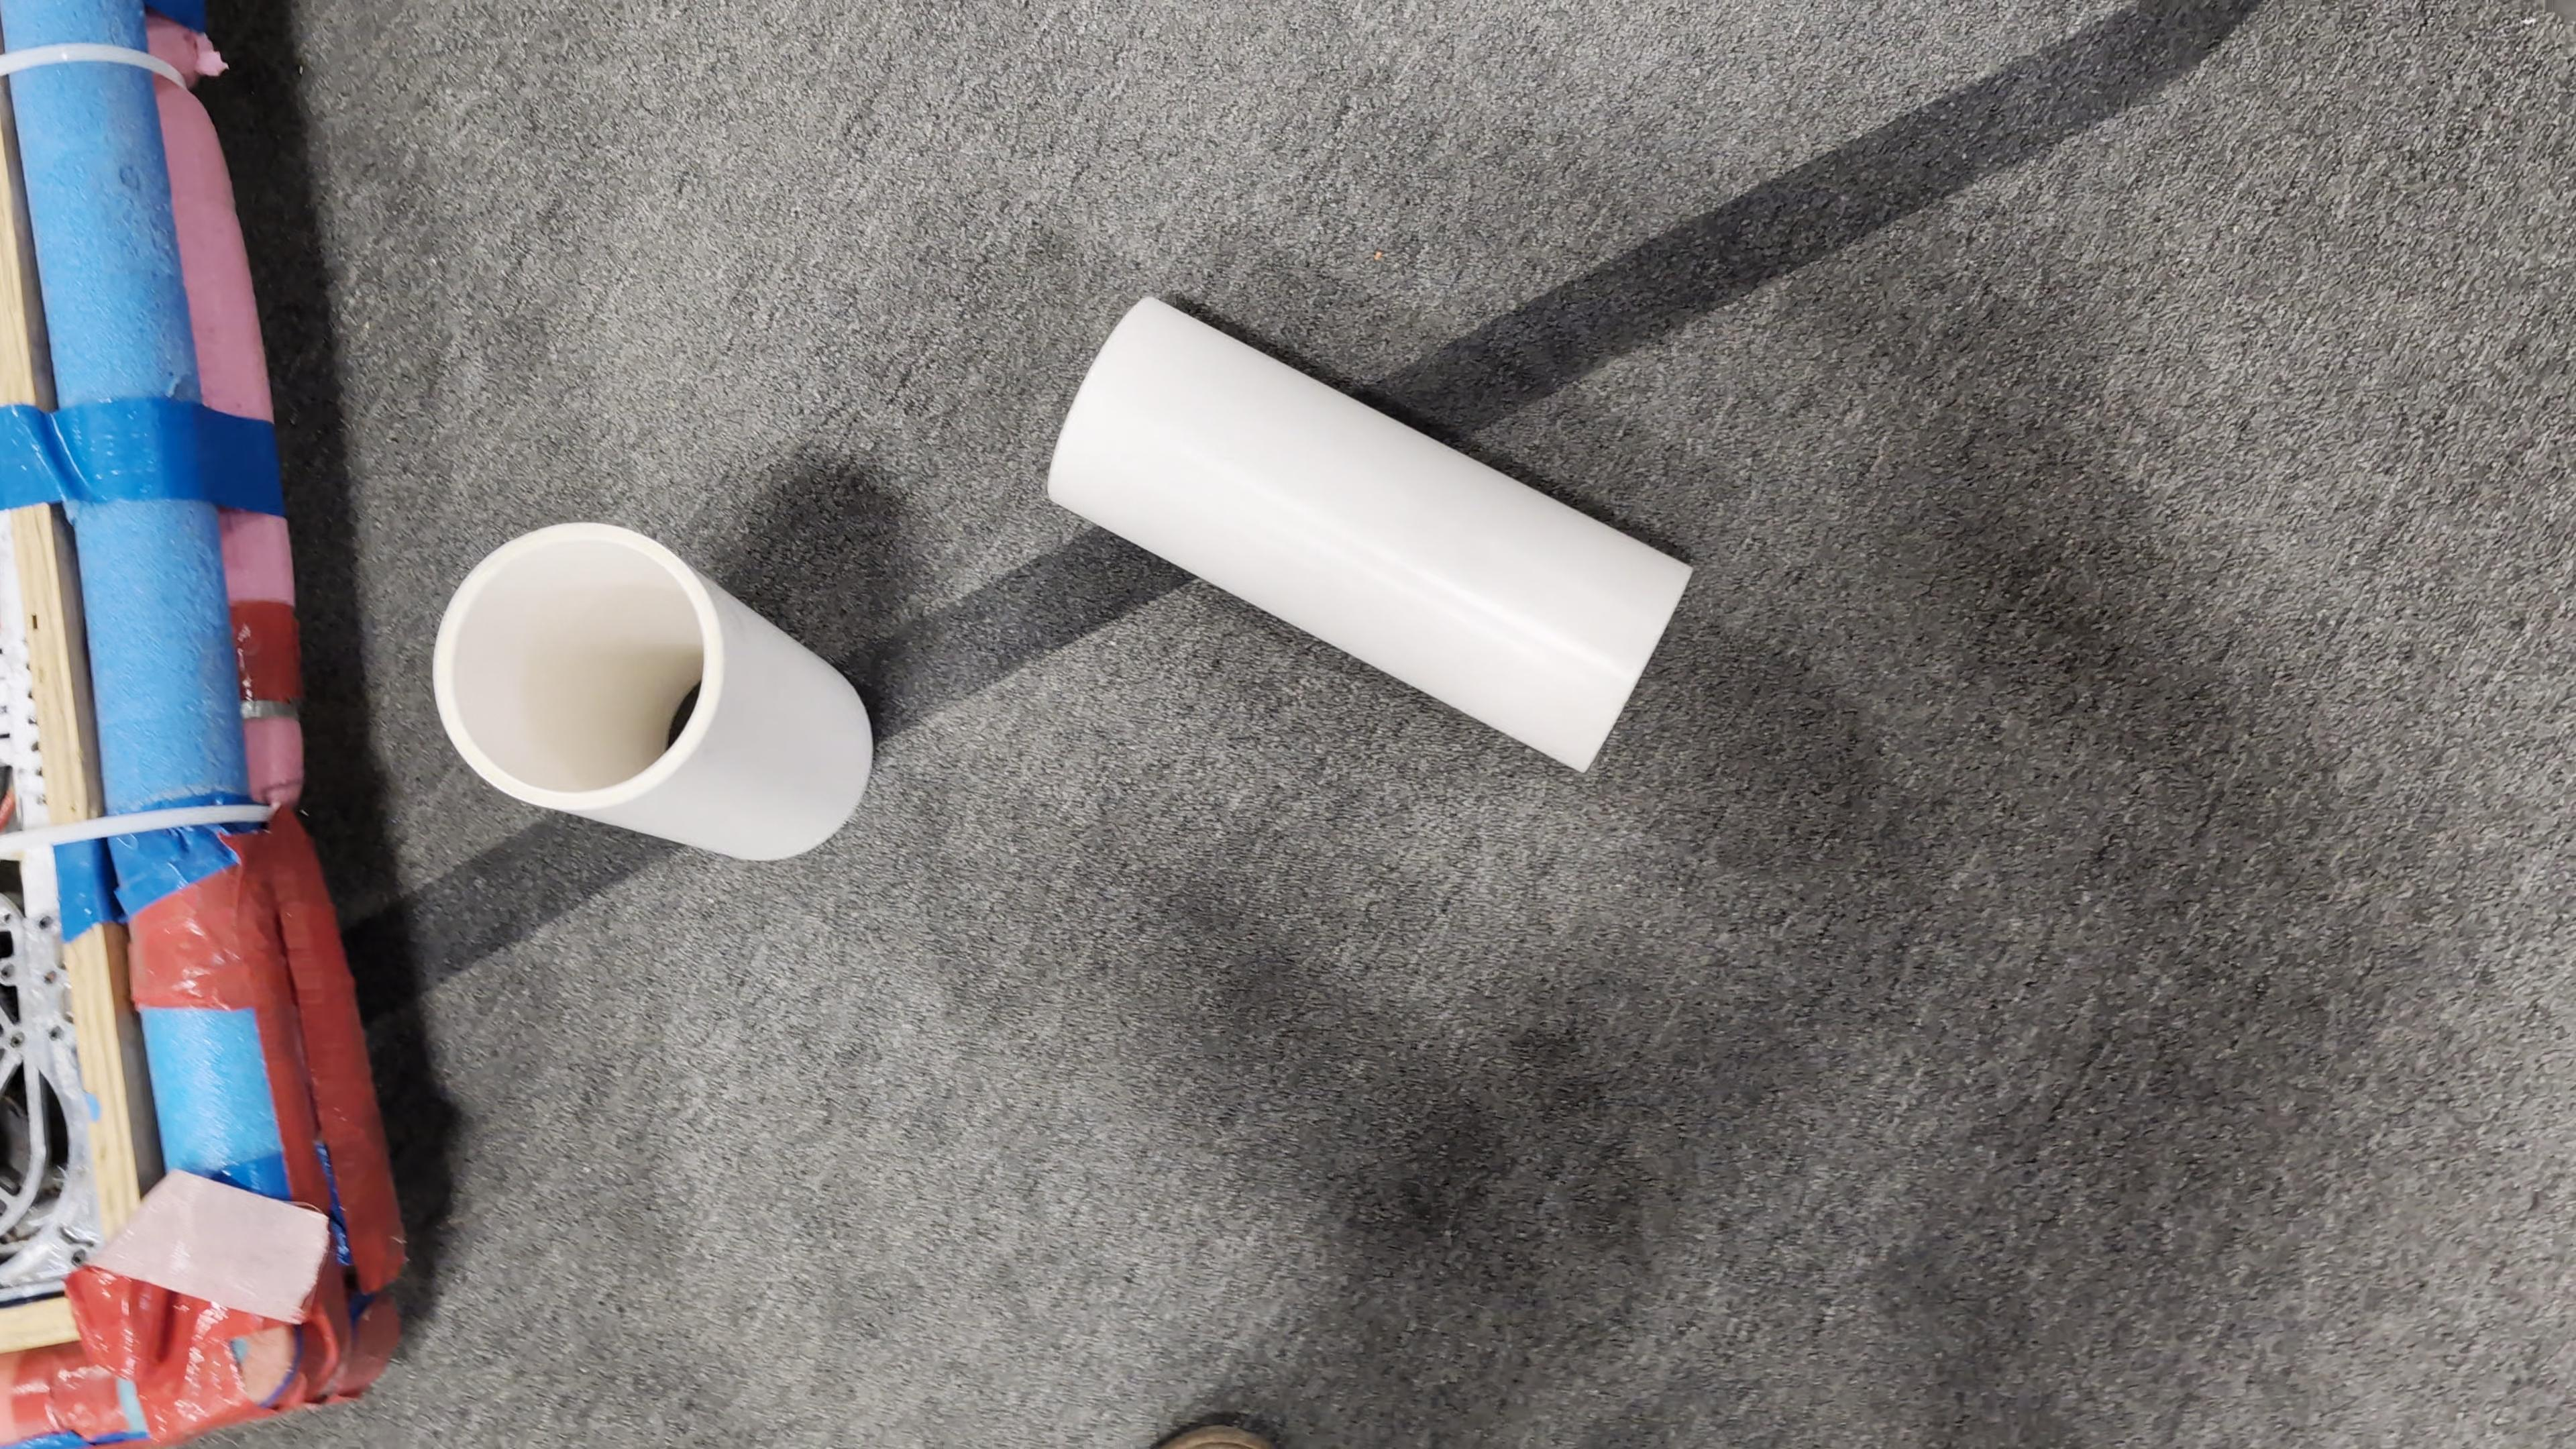coral: (1044, 292, 1698, 777), (430, 517, 876, 865)
